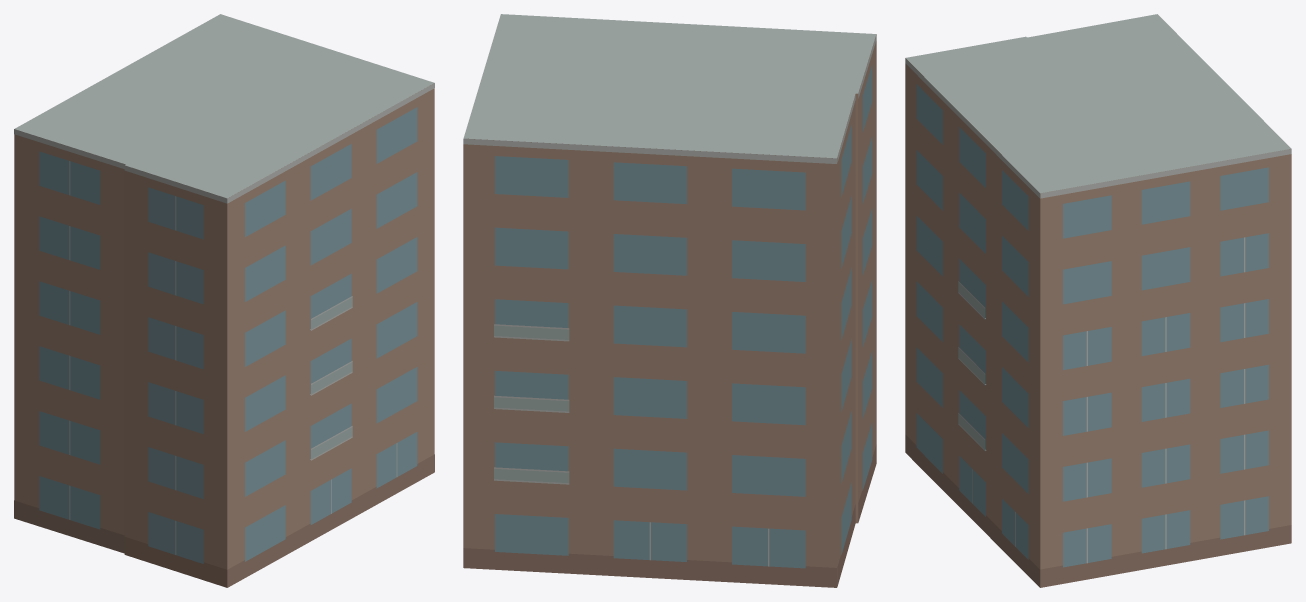
The model's file is survey-upis-32986705.glb.
The picture shows the model from 3 angles, left to right: view 1: azimuth 30°, elevation 25°; view 2: azimuth 150°, elevation 25°; view 3: azimuth 270°, elevation 25°; orthographic projection. The views are drawn at different scales.
Visible parts, largest first — view 1: survey-upis-32986705.tmp; view 2: survey-upis-32986705.tmp; view 3: survey-upis-32986705.tmp.
Boxes of the visible parts, x1,y1,x2,y2 form: survey-upis-32986705.tmp: (14,14,434,587); survey-upis-32986705.tmp: (463,14,876,587); survey-upis-32986705.tmp: (905,14,1291,587).
Bounding box in the file's own units: 17.75 × 18.2 × 16.16.
